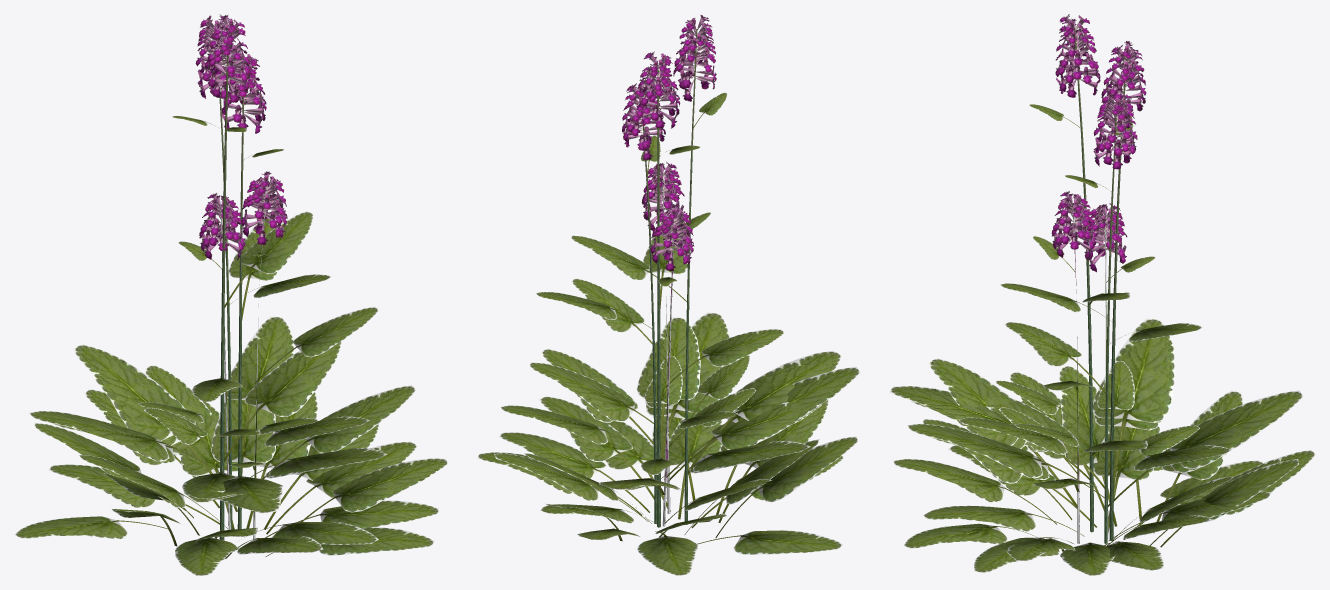
File: massif_stachys.glb
The picture shows the model from 3 angles, left to right: view 1: azimuth 30°, elevation 25°; view 2: azimuth 150°, elevation 25°; view 3: azimuth 270°, elevation 25°; orthographic projection. The views are drawn at different scales.
Parts seen in each view (by area): view 1: Stachys monieri 'Hummelo' A_Stachys monieri 'Hummelo'2K_Leaf, Stachys monieri 'Hummelo' A_Stachys monieri 'Hummelo'2K_Flow, Stachys monieri 'Hummelo' A_Stachys monieri 'Hummelo'_Stalk_; view 2: Stachys monieri 'Hummelo' A_Stachys monieri 'Hummelo'2K_Leaf, Stachys monieri 'Hummelo' A_Stachys monieri 'Hummelo'2K_Flow, Stachys monieri 'Hummelo' A_Stachys monieri 'Hummelo'_Stalk_; view 3: Stachys monieri 'Hummelo' A_Stachys monieri 'Hummelo'2K_Leaf, Stachys monieri 'Hummelo' A_Stachys monieri 'Hummelo'2K_Flow, Stachys monieri 'Hummelo' A_Stachys monieri 'Hummelo'_Stalk_.
Boxes of the visible parts, bbox=[...] form: Stachys monieri 'Hummelo' A_Stachys monieri 'Hummelo'2K_Leaf: bbox=[14, 116, 448, 575]; Stachys monieri 'Hummelo' A_Stachys monieri 'Hummelo'2K_Flow: bbox=[195, 14, 287, 260]; Stachys monieri 'Hummelo' A_Stachys monieri 'Hummelo'_Stalk_: bbox=[217, 47, 244, 540]; Stachys monieri 'Hummelo' A_Stachys monieri 'Hummelo'2K_Leaf: bbox=[477, 92, 860, 575]; Stachys monieri 'Hummelo' A_Stachys monieri 'Hummelo'2K_Flow: bbox=[622, 15, 716, 270]; Stachys monieri 'Hummelo' A_Stachys monieri 'Hummelo'_Stalk_: bbox=[643, 29, 697, 527]; Stachys monieri 'Hummelo' A_Stachys monieri 'Hummelo'2K_Leaf: bbox=[889, 104, 1315, 575]; Stachys monieri 'Hummelo' A_Stachys monieri 'Hummelo'2K_Flow: bbox=[1051, 14, 1146, 272]; Stachys monieri 'Hummelo' A_Stachys monieri 'Hummelo'_Stalk_: bbox=[1074, 28, 1126, 543].
Size of the model in its own units: 0.3082 by 0.4138 by 0.3108.
Materials: 3 (3 with a texture image).
